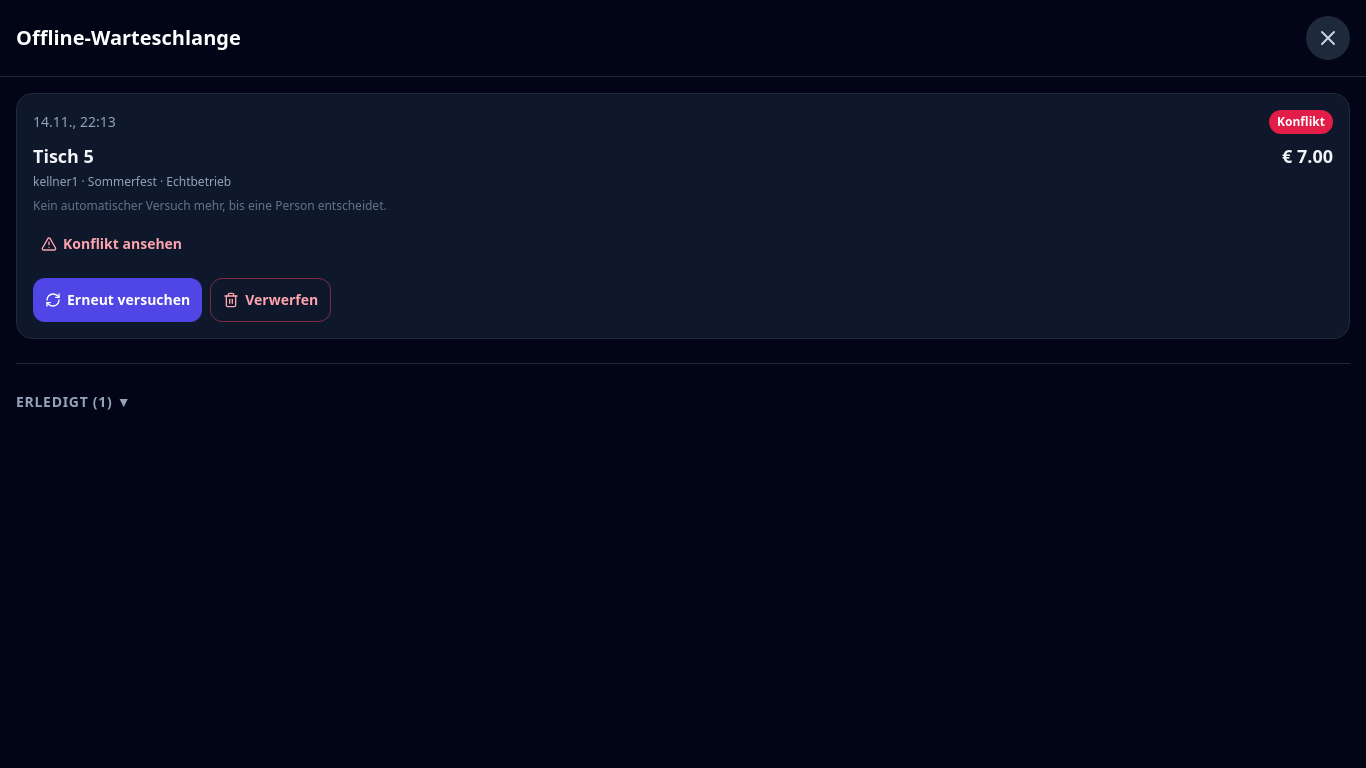
Test: OfflineQueuePanel – Zustandsdarstellung eines Eintrags › zeigt einen Konflikt klar unterscheidbar von einer bestätigten Bestellung, mit deutscher Begründung
Expected: the text "Konflikt" is shown, [1269,110,1333,134]
Click the button "Erledigt (1) ▼".
click(74, 402)  # box [16,380,131,424]
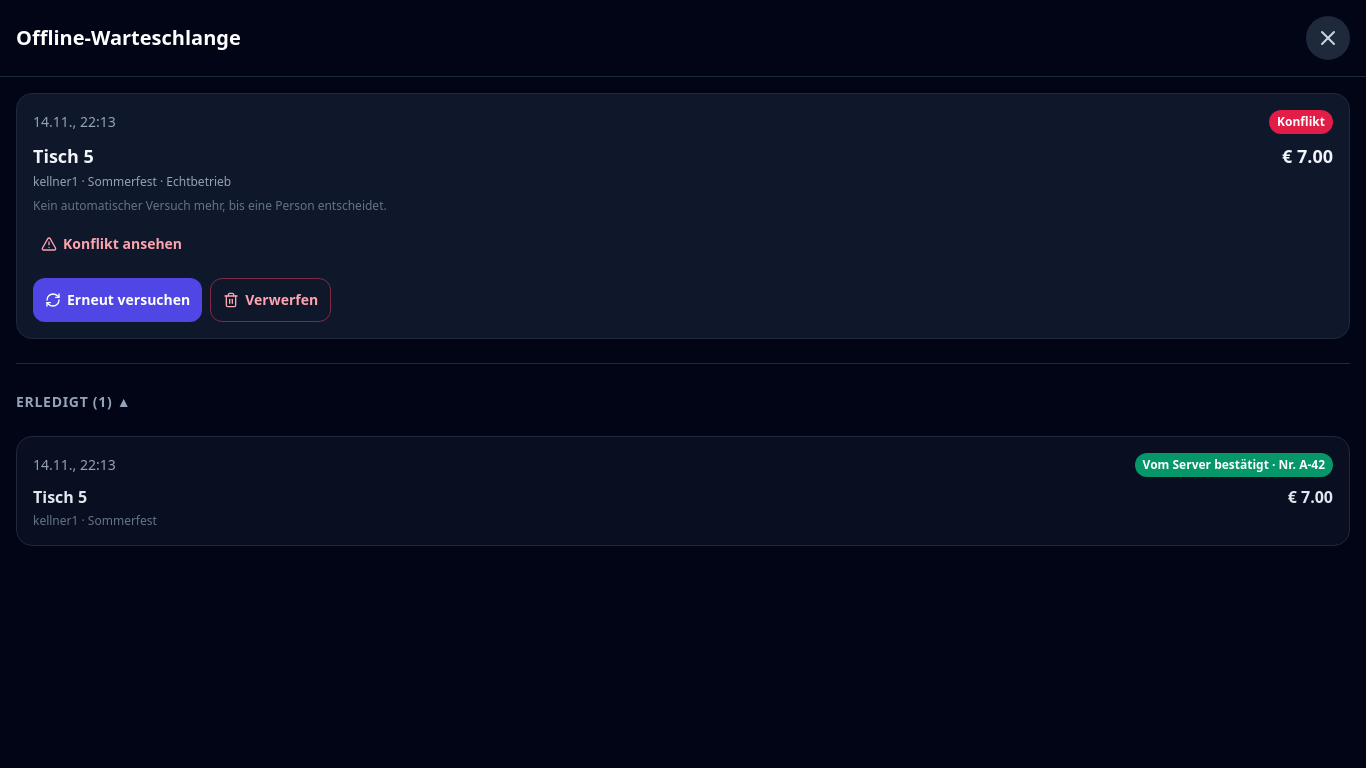
Expected: the text "Vom Server bestätigt · Nr. A-42" is shown, [1135,453,1333,477]
# "Konflikt ansehen" zeigt die verständliche deutsche Ursache.
Click the button "Konflikt ansehen".
click(112, 244)  # box [33,222,190,266]
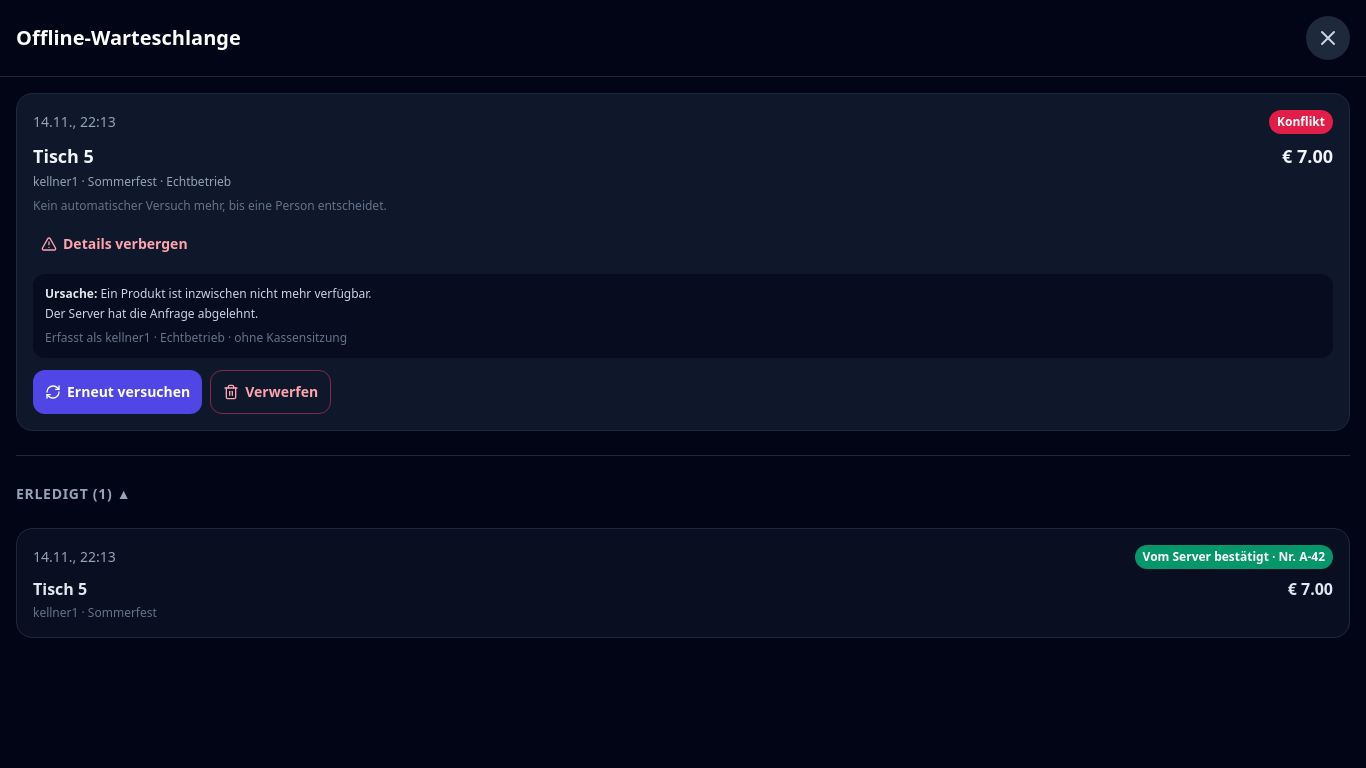
Expected: the text "Ursache: Ein Produkt ist inzwischen nicht mehr verfügbar." is shown, [45,285,372,302]
